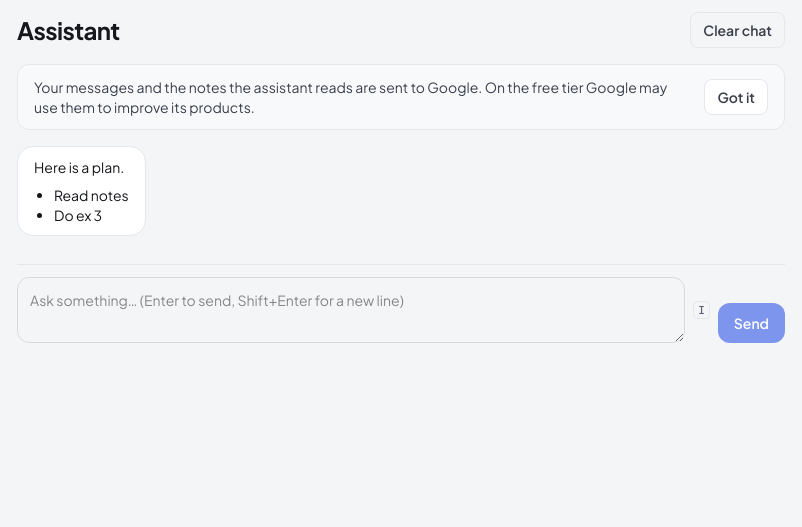
Test: AssistantPage › streaming › Clear chat is disabled while a reply is streaming
The width and height of the screenshot is (802, 527).
Check: the button "Clear chat" is shown, box [690,12,785,48]
Type "hi" into the text box named "Message the assistant" at (351, 310), box [17,277,685,343]
Then press Enter
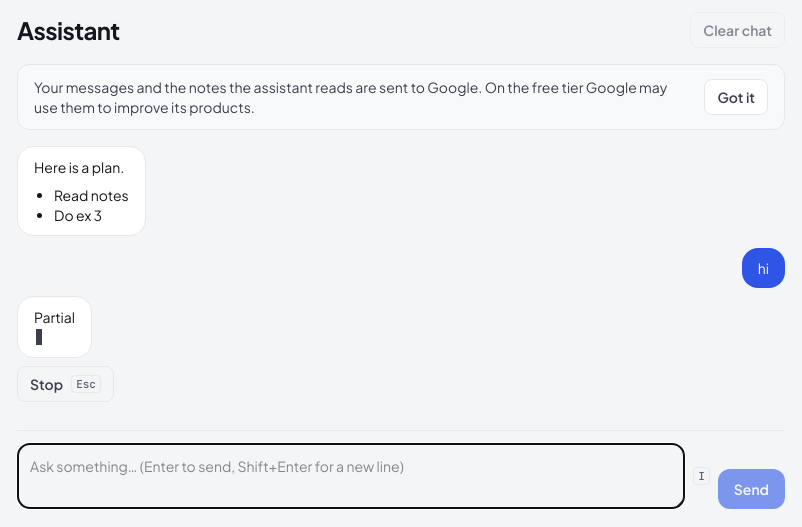
Check: the text "Partial" is shown, box [34,307,75,327]
Check: the button "Clear chat" is disabled, box [690,12,785,48]
Click the button "Stop Esc" at (65, 384), box [17,366,114,402]
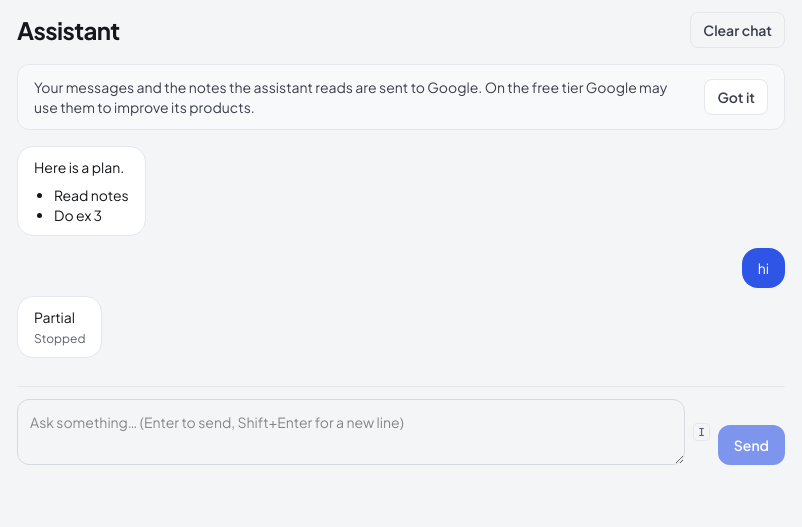
Check: the text "Stopped" is shown, box [34,331,85,347]
Check: the button "Clear chat" is enabled, box [690,12,785,48]
